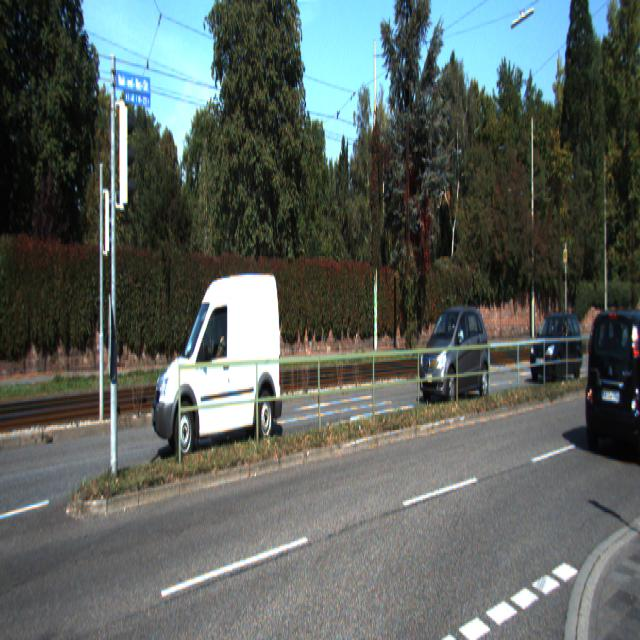Car: (154, 262, 285, 470), (584, 298, 639, 462), (420, 301, 490, 409), (529, 308, 585, 385)
